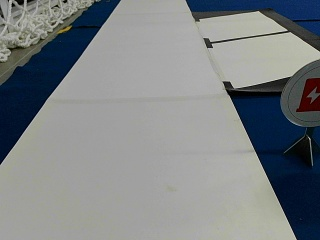battery: (281, 60, 319, 126)
